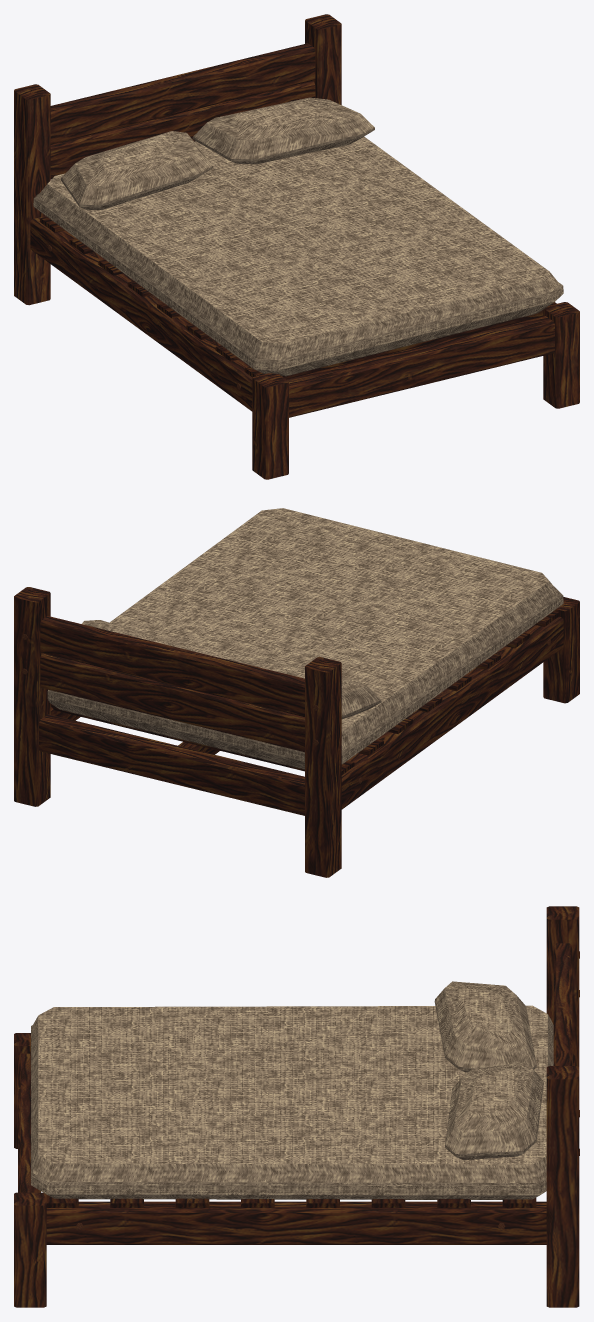
The model's file is Cama-Casal-Sem-Manta.glb.
3 renders of one model, top to bottom at view 1: azimuth 30°, elevation 25°; view 2: azimuth 150°, elevation 25°; view 3: azimuth 270°, elevation 25°, orthographic. The views are drawn at different scales.
Visible parts, largest first — view 1: Colchao, Pés e montantes, Cabeceira, Travessas das pontas, Travessas laterais, Travesseiro 2, Travesseiro 1, Estrado; view 2: Colchao, Cabeceira, Pés e montantes, Travessas das pontas, Travessas laterais, Estrado, Travesseiro 1, Travesseiro 2; view 3: Colchao, Travessas laterais, Pés e montantes, Travesseiro 2, Travesseiro 1, Estrado, Cabeceira, Travessas das pontas.
Part boxes in pixels (<box>): Colchao: <box>33,136,563,376</box>; Pés e montantes: <box>14,14,579,479</box>; Cabeceira: <box>50,43,315,179</box>; Travessas das pontas: <box>286,316,554,417</box>; Travessas laterais: <box>30,216,252,411</box>; Travesseiro 2: <box>192,97,374,164</box>; Travesseiro 1: <box>61,131,213,209</box>; Estrado: <box>40,216,556,379</box>; Colchao: <box>47,508,563,769</box>; Cabeceira: <box>40,616,304,752</box>; Pés e montantes: <box>14,587,579,877</box>; Travessas das pontas: <box>39,714,304,815</box>; Travessas laterais: <box>50,616,563,809</box>; Estrado: <box>50,611,558,774</box>; Travesseiro 1: <box>240,660,381,719</box>; Travesseiro 2: <box>82,620,195,651</box>; Colchao: <box>31,1005,553,1199</box>; Travessas laterais: <box>46,1201,546,1244</box>; Pés e montantes: <box>14,906,579,1307</box>; Travesseiro 2: <box>445,1062,543,1160</box>; Travesseiro 1: <box>434,981,536,1072</box>; Estrado: <box>46,1195,536,1207</box>; Cabeceira: <box>553,943,572,1065</box>; Travessas das pontas: <box>18,1053,575,1192</box>.
Size of the model in its own units: 1.44 by 0.894 by 2.
Materials: 2 (2 with a texture image).
